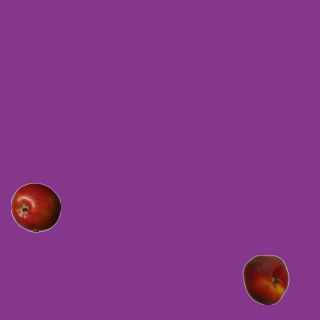Apple Braeburn: (10, 182, 60, 232)
Nectarine Flat: (240, 254, 290, 304)
